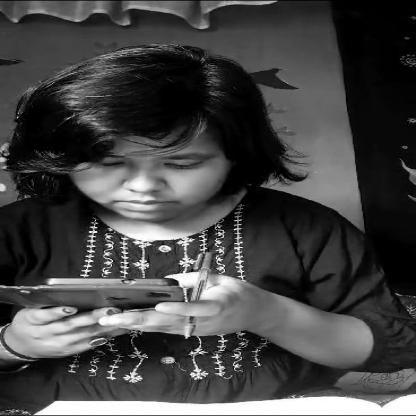Normal: (21, 86, 279, 230)
